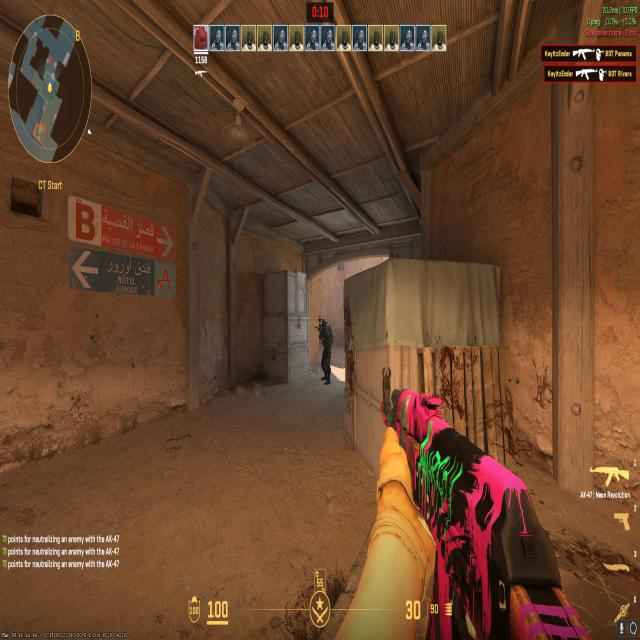ct: (314, 310, 335, 387)
